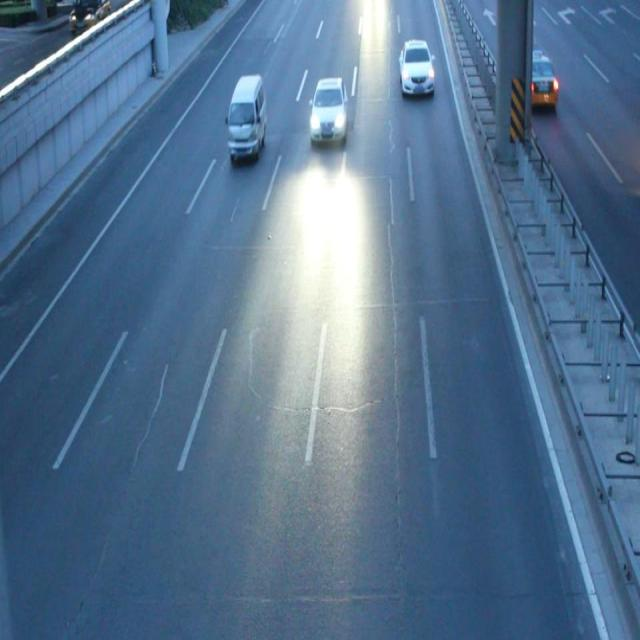car: (226, 75, 266, 160), (308, 78, 346, 144), (397, 40, 435, 97)
